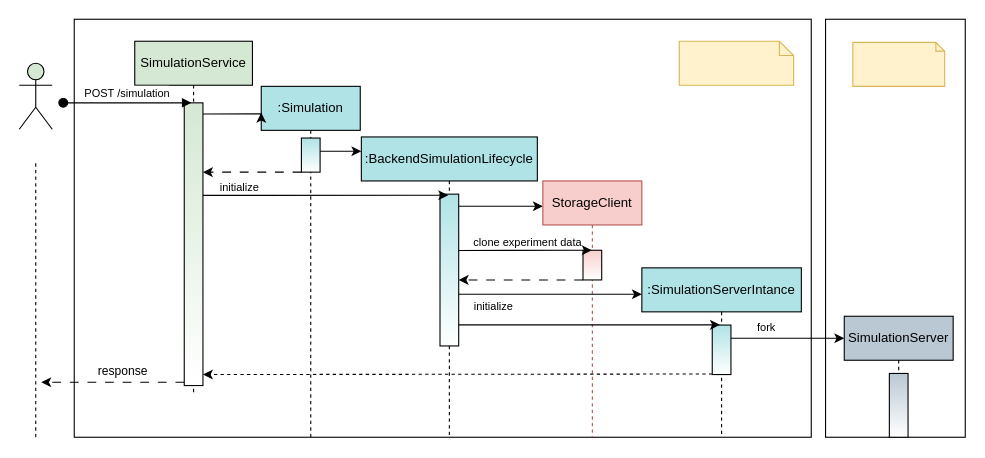
Image size: 985x458. Some labels were removed from this diagram. The shapes that lost their labels are listed below. From the top down, each one's centre as x and y in pixels, then its label:
At point 736,62: "REST server process".
At point 898,63: "Simulation Server Process".
At point 35,95: "REST Client".
